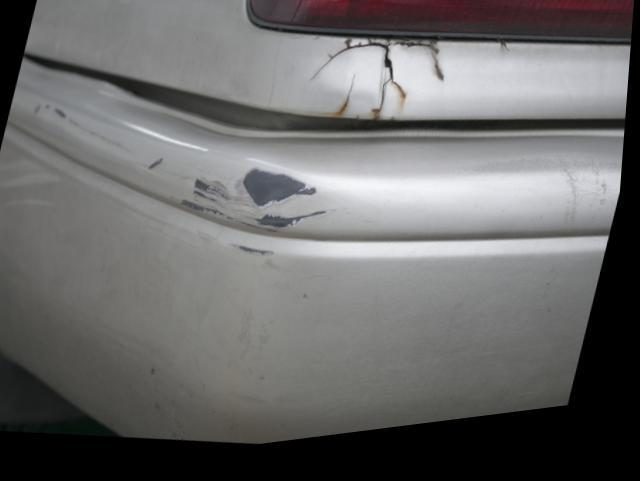crack: (309, 48, 436, 128)
scratch: (30, 99, 338, 268)
